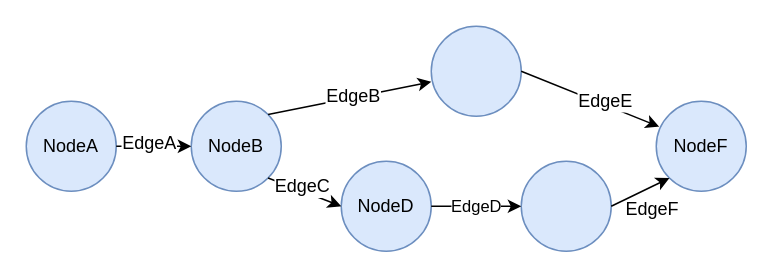
Image size: 773x278. Some labels were removed from this diagram. Each missing label, with the box of its shape:
NodeC: (430, 25, 521, 116)
NodeE: (520, 160, 611, 251)
